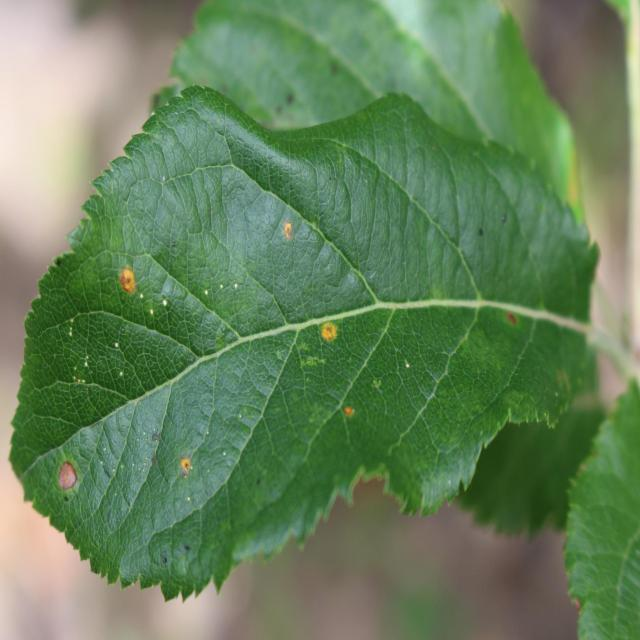Rust: (310, 307, 342, 357), (113, 257, 140, 313), (171, 447, 194, 488), (281, 214, 302, 258), (335, 392, 361, 426)
